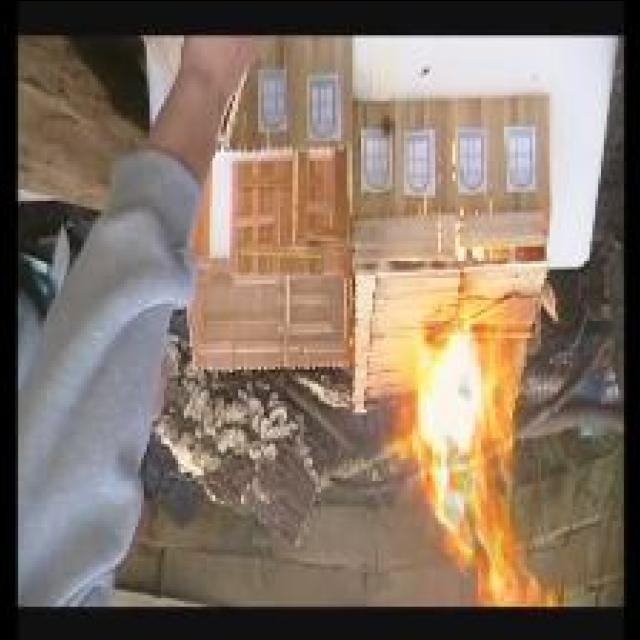Fire: (398, 312, 556, 604)
